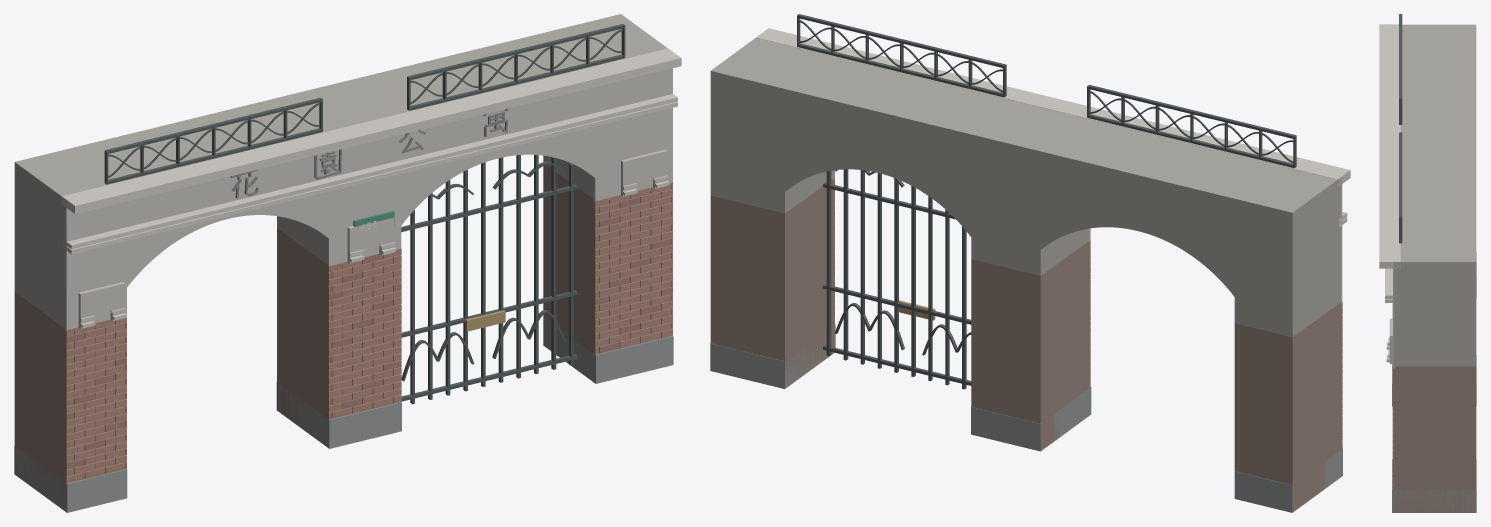
Rendered from huangpu-park-apartments-twin-arched-passage-web.glb.
3 renders of one model, left to right at view 1: azimuth 30°, elevation 25°; view 2: azimuth 150°, elevation 25°; view 3: azimuth 270°, elevation 25°, orthographic. The views are drawn at different scales.
Visible parts, largest first — view 1: 派克公寓455弄双拱题名门廊; view 2: 派克公寓455弄双拱题名门廊; view 3: 派克公寓455弄双拱题名门廊.
Boxes of the visible parts, x1,y1,x2,y2 form: 派克公寓455弄双拱题名门廊: (14, 14, 681, 512); 派克公寓455弄双拱题名门廊: (710, 14, 1350, 512); 派克公寓455弄双拱题名门廊: (1379, 14, 1476, 512).
Size of the model in its own units: 8.16 by 4.47 by 1.41.
